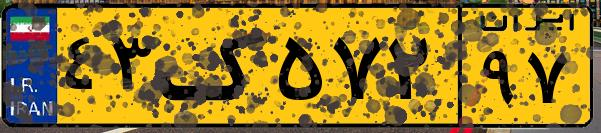2: (385, 28, 445, 110)
3: (110, 28, 158, 98)
4: (57, 26, 110, 100)
5: (270, 28, 330, 110)
7: (330, 28, 385, 110), (525, 38, 570, 115)
9: (475, 38, 525, 113)
ک: (158, 12, 270, 120)
